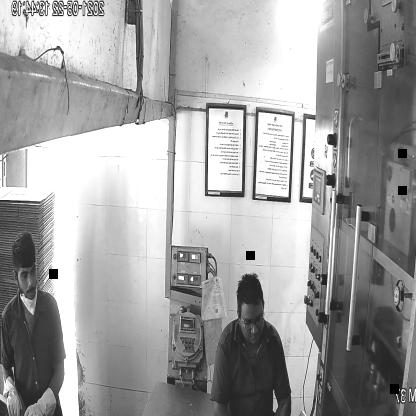goggles: (238, 310, 267, 334)
no_goggles: (17, 263, 38, 284)
